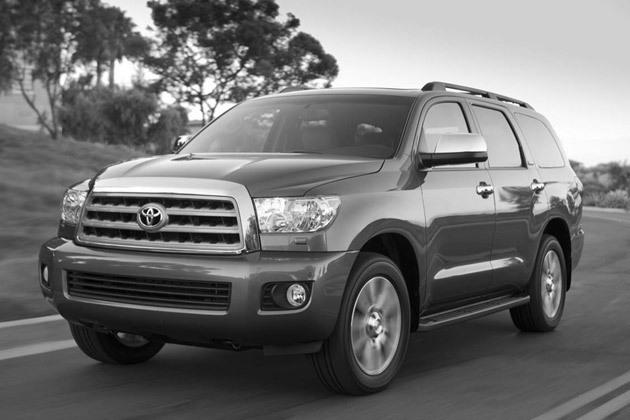car: (39, 82, 590, 392)
